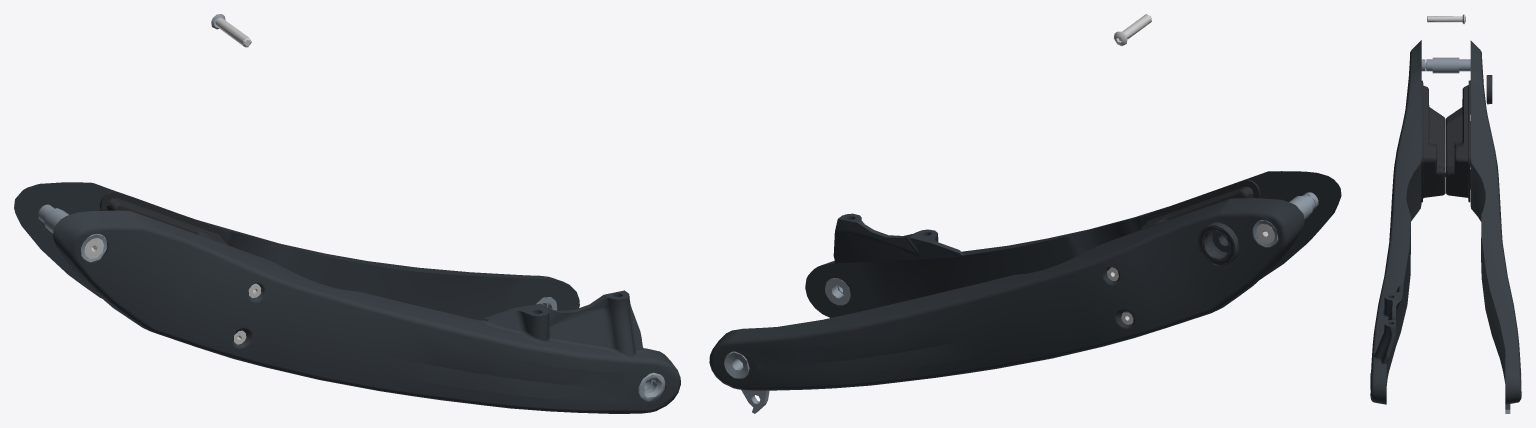
Rendered from rear_suspension_LOD0.fbx.
3 renders of one model, left to right at view 1: azimuth 30°, elevation 25°; view 2: azimuth 150°, elevation 25°; view 3: azimuth 270°, elevation 25°, orthographic. The views are drawn at different scales.
Visible parts, largest first — view 1: MM_carbon_n0220_left_arm, MM_carbon_n0250_right_arm, MM_carbon_n0267_bridge; view 2: MM_carbon_n0250_right_arm, MM_carbon_n0220_left_arm, MM_carbon_n0267_bridge; view 3: MM_carbon_n0250_right_arm, MM_carbon_n0220_left_arm, MM_carbon_n0267_bridge, MM_carbon_n0602_pivot_hardware, MM_carbon_n0555_pivot_hardware, MM_carbon_n0194_pivot_axle, MM_carbon_n0536_pivot_bearing.
Part boxes in pixels (left/top/right/bottom): MM_carbon_n0220_left_arm: left=52, top=210, right=680, bottom=413; MM_carbon_n0250_right_arm: left=14, top=182, right=579, bottom=320; MM_carbon_n0267_bridge: left=100, top=191, right=257, bottom=255; MM_carbon_n0250_right_arm: left=709, top=198, right=1304, bottom=390; MM_carbon_n0220_left_arm: left=805, top=171, right=1341, bottom=317; MM_carbon_n0267_bridge: left=1111, top=179, right=1260, bottom=240; MM_carbon_n0250_right_arm: left=1470, top=40, right=1521, bottom=404; MM_carbon_n0220_left_arm: left=1370, top=40, right=1421, bottom=404; MM_carbon_n0267_bridge: left=1421, top=80, right=1470, bottom=202; MM_carbon_n0602_pivot_hardware: left=1432, top=57, right=1459, bottom=73; MM_carbon_n0555_pivot_hardware: left=1427, top=14, right=1465, bottom=23; MM_carbon_n0194_pivot_axle: left=1426, top=59, right=1470, bottom=71; MM_carbon_n0536_pivot_bearing: left=1486, top=75, right=1492, bottom=104.
Bounding box in the file's own units: 0.5464 × 0.4065 × 0.1911.
